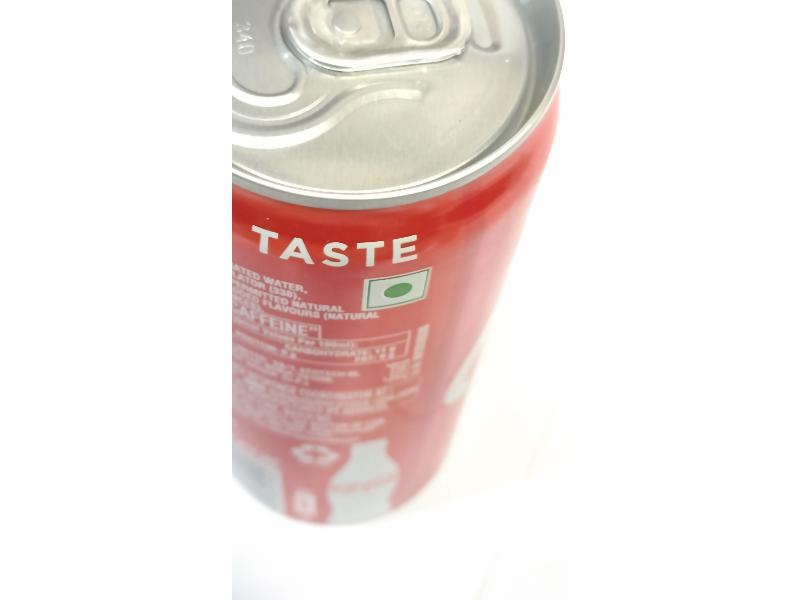can: (233, 0, 565, 532)
